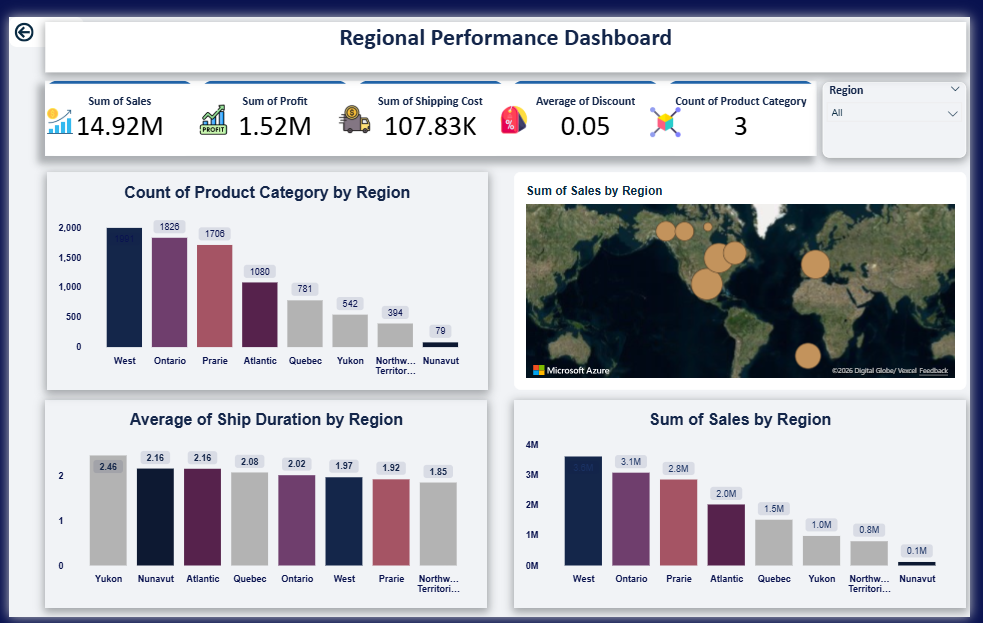

Layout of this report page (visuals, bound fields, positions):
{"tool":"powerbi","page":{"name":"Region","canvas":[1281,800],"ordinal":4},"visuals":[{"type":"actionButton","box":[0,0,100,40],"z":0},{"type":"cardVisual","fields":{"Data":["Sum(Final Data.Sales)","Sum(Final Data.Profit)","Sum(Final Data.Shipping Cost)","Avg(Final Data.Discount)","Count(Final Data.Product Category)"]},"box":[48.3,84.5,1029.5,100.5],"z":1000},{"type":"slicer","fields":{"Values":["Final Data.Region"]},"box":[1084.2,87,191.6,100.5],"z":2000},{"type":"columnChart","fields":{"Category":["Final Data.Region"],"Y":["Sum(Final Data.Sales)"]},"box":[672.6,509.5,603.3,278.5],"z":3000},{"type":"columnChart","fields":{"Category":["Final Data.Region"],"Y":["Avg(Final Data.Ship Duration)"]},"box":[48.9,509.5,589.7,278.5],"z":4000},{"type":"columnChart","fields":{"Category":["Final Data.Region"],"Y":["CountNonNull(Final Data.Product Category)"]},"box":[49.5,206.6,588.7,290.7],"z":5000},{"type":"azureMap","fields":{"Size":["Sum(Final Data.Sales)"],"Category":["Final Data.Region"]},"box":[672.9,206.6,603.6,290.7],"z":6000},{"type":"textbox","title":"Regional Performance Dashboard","box":[48.3,6.7,1227.9,67],"z":7000},{"type":"image","box":[19.8,105.1,96.5,66.8],"z":8000},{"type":"image","box":[184.3,101.4,175.6,70.5],"z":9000},{"type":"image","box":[398.3,100.2,124.9,73],"z":10000},{"type":"image","box":[627.1,102.7,92.8,66.8],"z":11000},{"type":"image","box":[789.1,105.1,173.2,70.5],"z":12000}]}

Visuals, with their boxes in screenshot pixels (x1, y1, x2, y2), scaled from the page's 1281x800 canvas onto the 983x623 screenshot:
actionButton: rect(0, 0, 77, 31)
cardVisual - Sum(Final Data.Sales) x Sum(Final Data.Profit): rect(37, 66, 827, 144)
slicer - Final Data.Region: rect(832, 68, 979, 146)
columnChart - Final Data.Region x Sum(Final Data.Sales): rect(516, 397, 979, 614)
columnChart - Final Data.Region x Avg(Final Data.Ship Duration): rect(38, 397, 490, 614)
columnChart - Final Data.Region x CountNonNull(Final Data.Product Category): rect(38, 161, 490, 387)
azureMap - Sum(Final Data.Sales) x Final Data.Region: rect(516, 161, 980, 387)
"Regional Performance Dashboard" textbox: rect(37, 5, 979, 57)
image: rect(15, 82, 89, 134)
image: rect(141, 79, 276, 134)
image: rect(306, 78, 401, 135)
image: rect(481, 80, 552, 132)
image: rect(606, 82, 738, 137)
